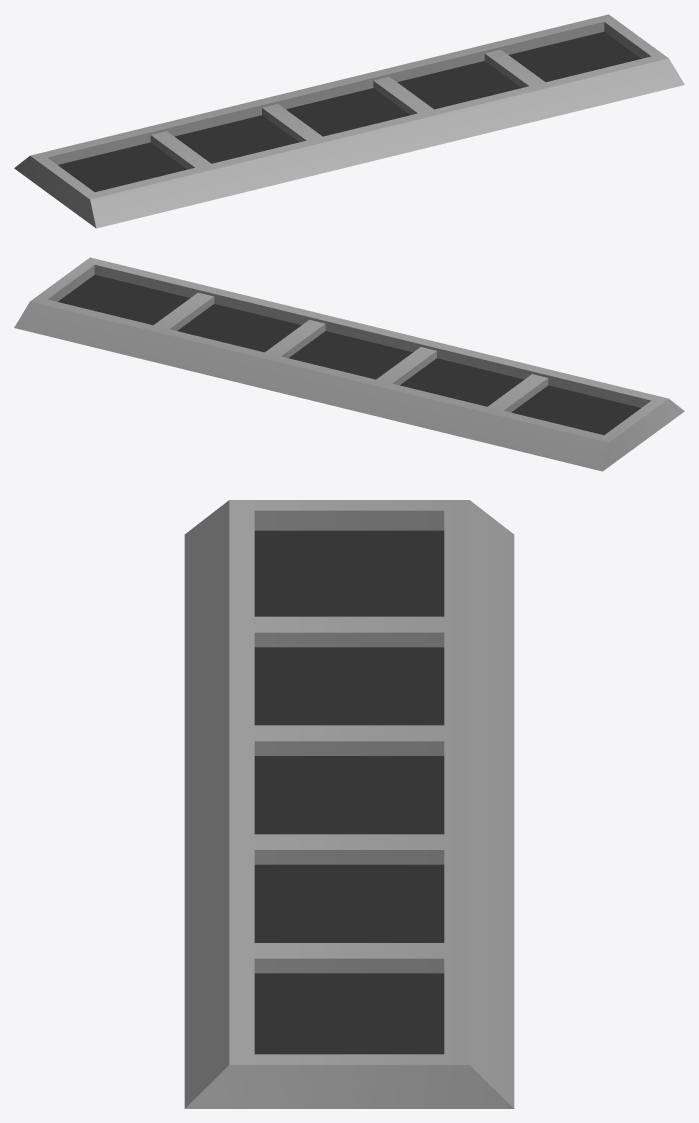
The model's file is B02_aeration.fbx.
3 views of the same model, one above another, from view 1: azimuth 30°, elevation 25°; view 2: azimuth 150°, elevation 25°; view 3: azimuth 270°, elevation 25° (orthographic). The views are drawn at different scales.
Parts seen in each view (by area): view 1: B02_aeration; view 2: B02_aeration; view 3: B02_aeration.
Part boxes in pixels (x1,y1,x2,y2): B02_aeration: (14,14,684,228); B02_aeration: (14,257,684,471); B02_aeration: (184,500,514,1108).
Bounding box in the file's own units: 272 × 8.66 × 65.93.
